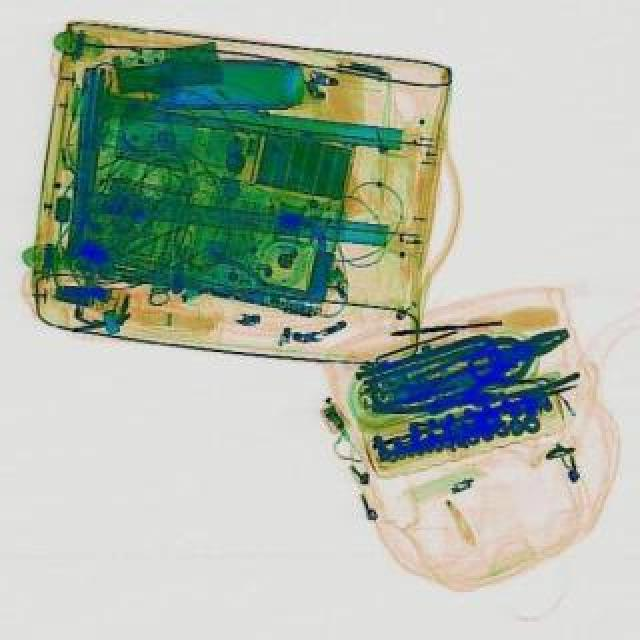wrench: (418, 320, 582, 412)
